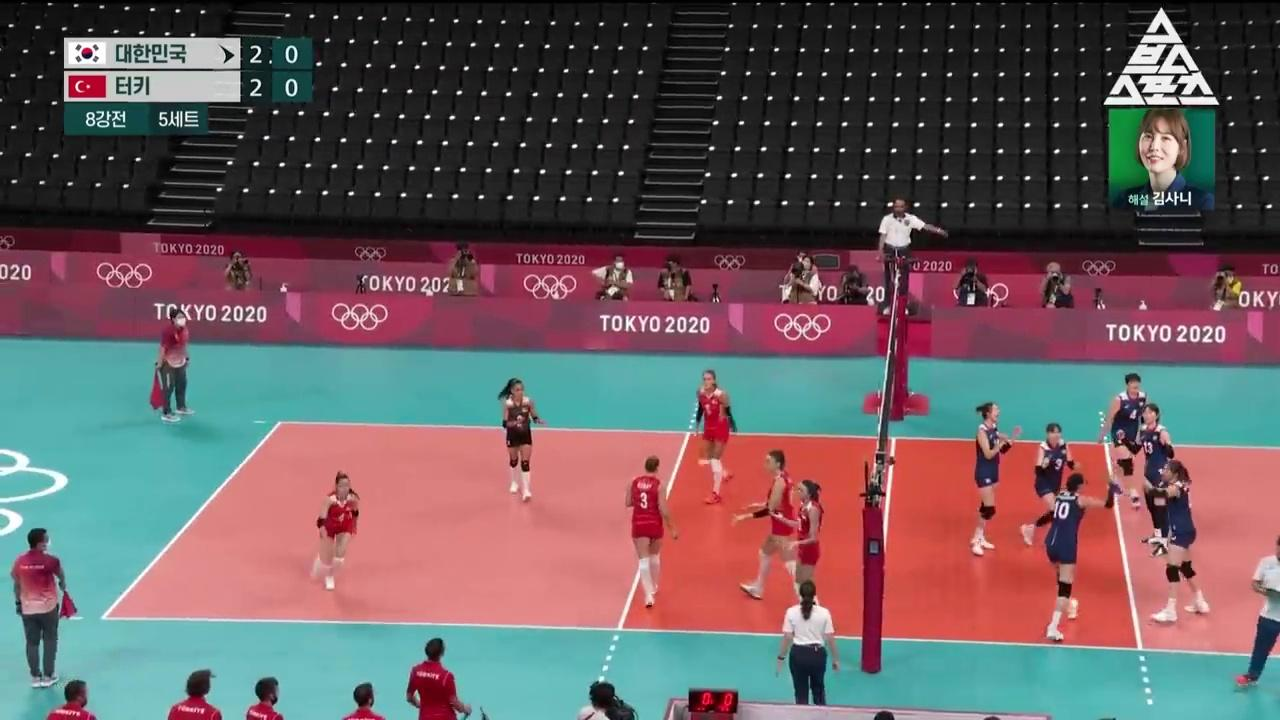player: (732, 450, 816, 615), (1124, 460, 1209, 622), (1045, 467, 1120, 640), (1118, 403, 1175, 558), (626, 455, 678, 607), (770, 480, 824, 624), (970, 402, 1020, 556), (1022, 423, 1081, 550), (1097, 373, 1146, 511), (499, 378, 546, 502), (313, 471, 360, 590), (696, 370, 736, 504)
referee: (878, 199, 948, 315), (777, 581, 840, 707)
